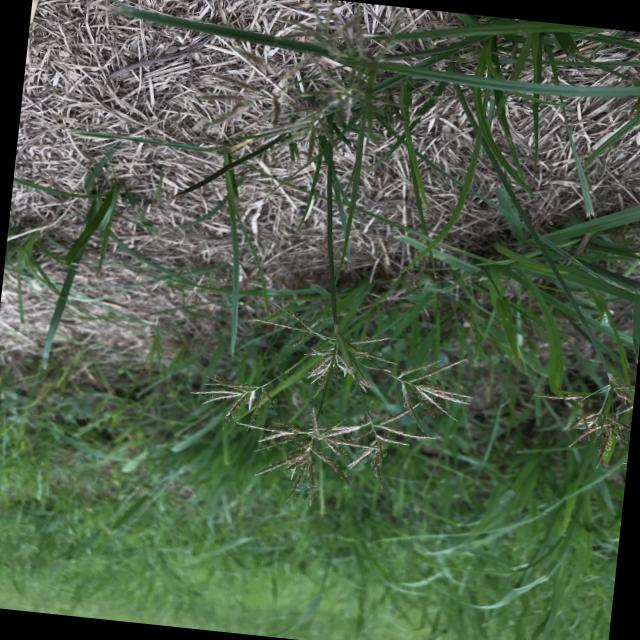cyperus: (180, 310, 476, 524), (524, 366, 636, 484)
